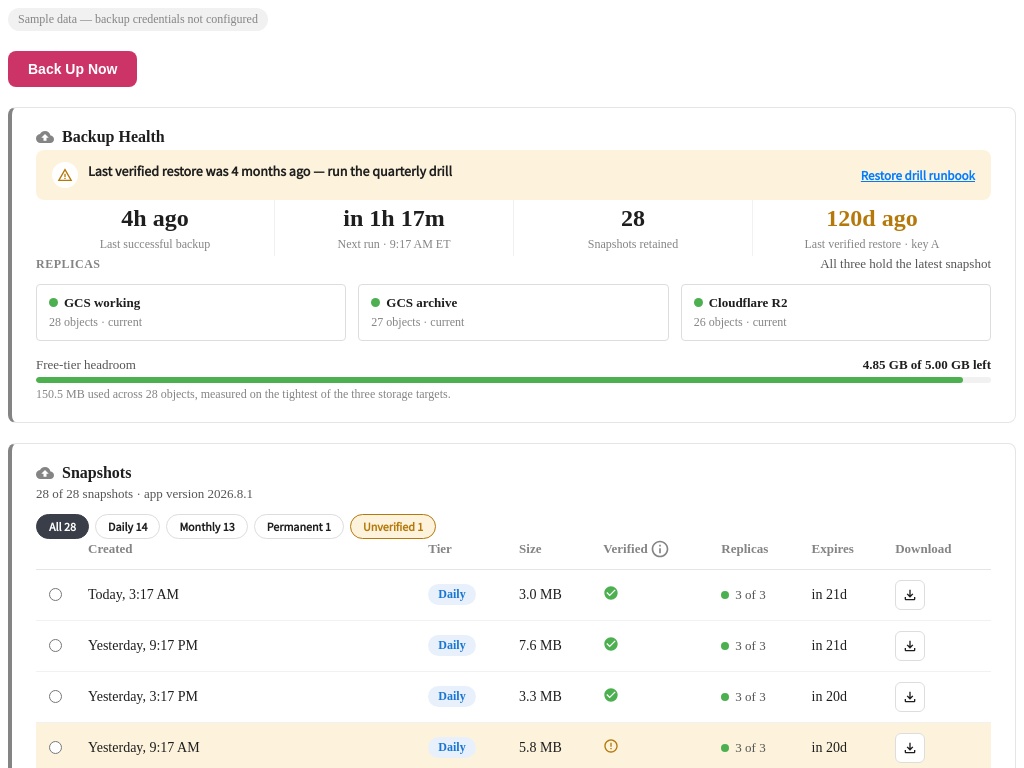
it: BackupsTab › selecting a snapshot populates the Restore Runbook command with its artifact filename
Click the radio button named "Select Today, 3:17 AM snapshot".
click(56, 594)  # box [49, 588, 62, 601]
(page scrolled)
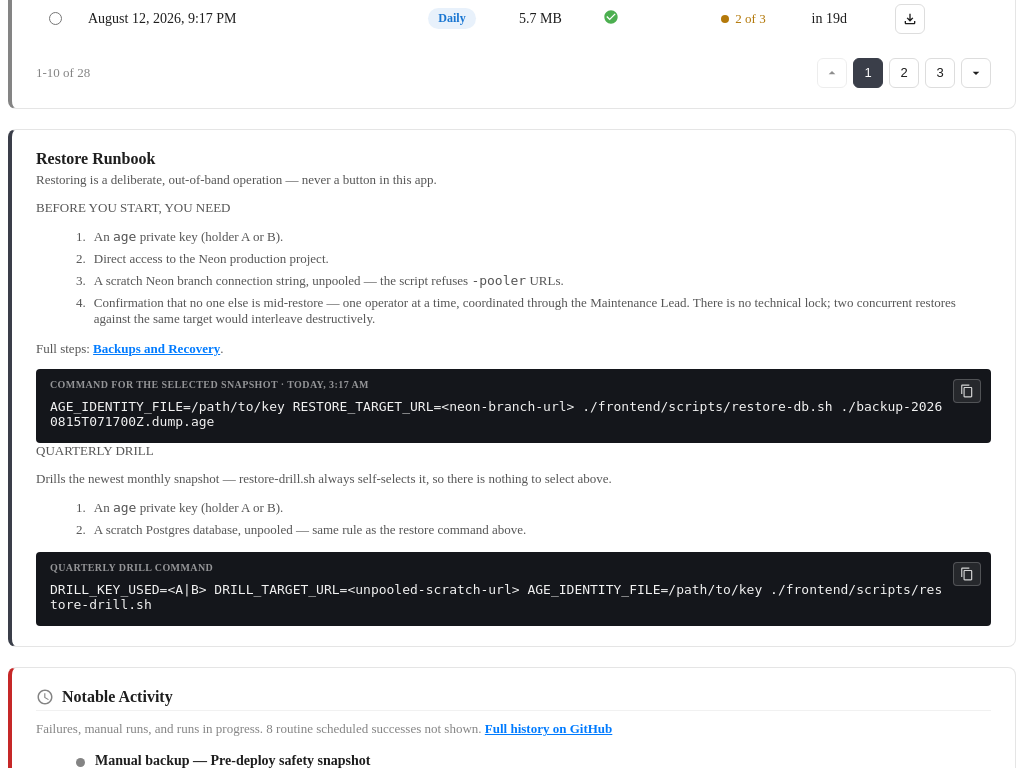
Check: the text "Command for the selected snapshot · Today, 3:17 AM" is shown, box [50, 379, 369, 390]
